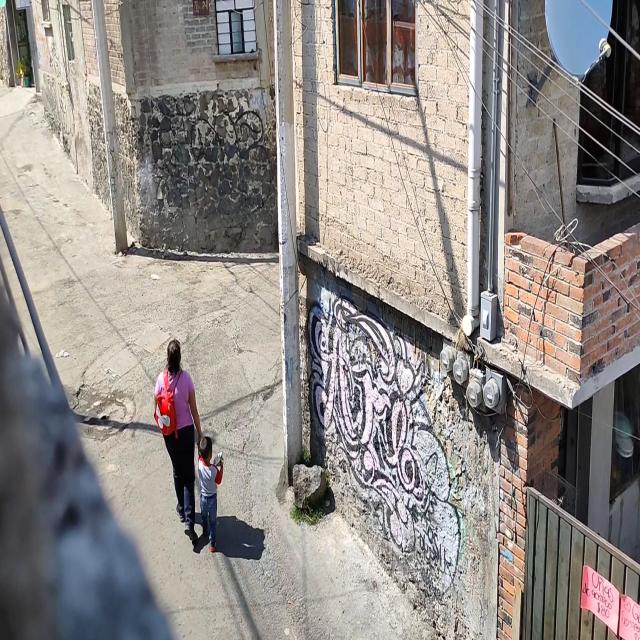adult: (153, 339, 201, 542)
child: (197, 434, 225, 550)
